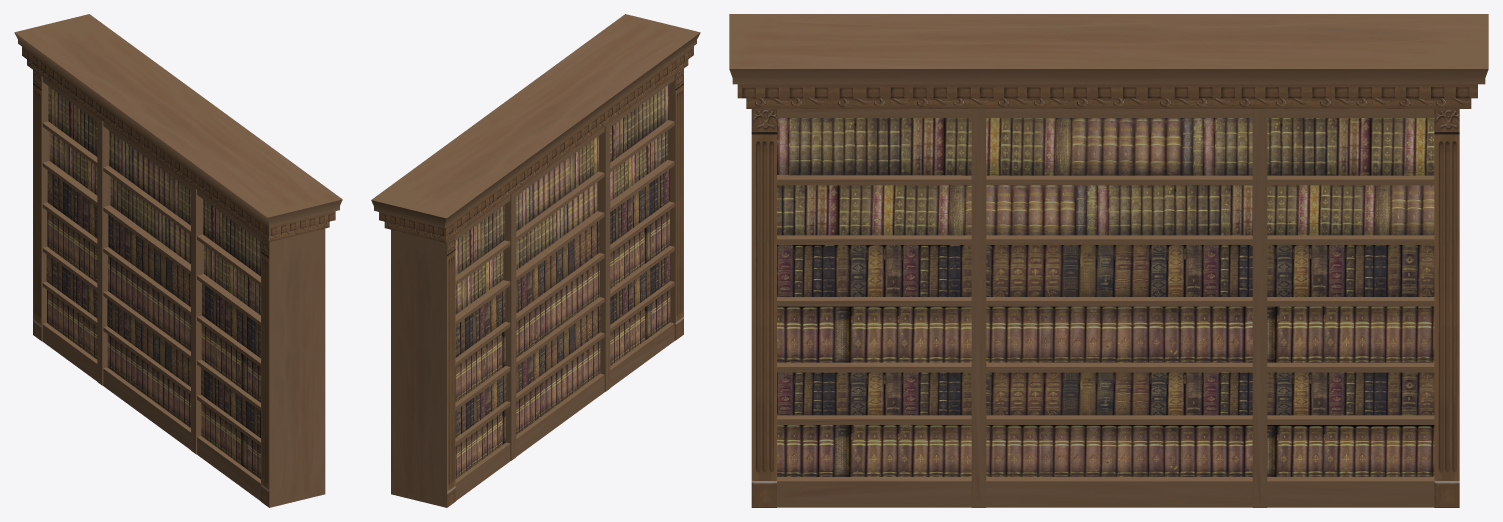
Rendered from long chest book.fbx.
3 views of the same model, side by side, from view 1: azimuth 30°, elevation 25°; view 2: azimuth 150°, elevation 25°; view 3: azimuth 270°, elevation 25° (orthographic). The views are drawn at different scales.
Parts seen in each view (by area): view 1: polySurface336; view 2: polySurface336; view 3: polySurface336.
Part boxes in pixels (x1=…): polySurface336: x1=14, y1=14, x2=342, y2=507; polySurface336: x1=371, y1=14, x2=700, y2=507; polySurface336: x1=729, y1=14, x2=1488, y2=507.
Size of the model in its own units: 84.05 by 318 by 490.
Materials: 1 (1 with a texture image).
